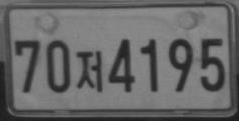0: (45, 40, 71, 92)
1: (138, 39, 164, 91)
4: (107, 39, 136, 92)
5: (199, 38, 225, 91)
7: (14, 40, 41, 93)
9: (168, 37, 193, 92)
저: (75, 51, 103, 92)
